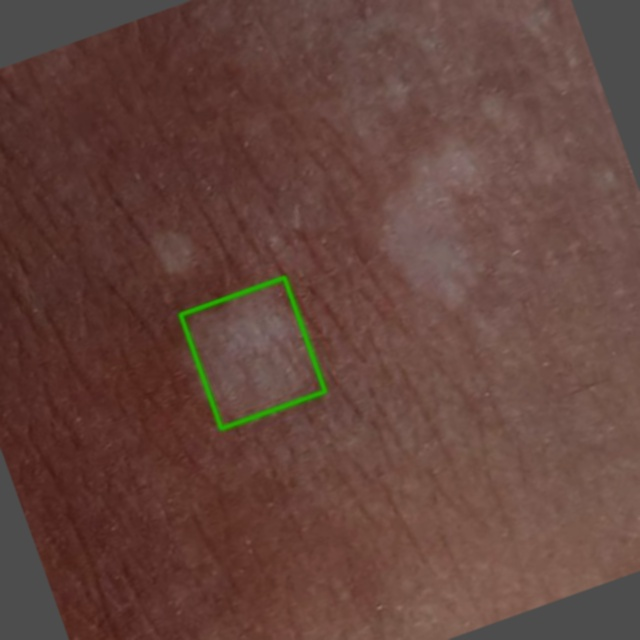Eczema: (180, 277, 325, 428)
